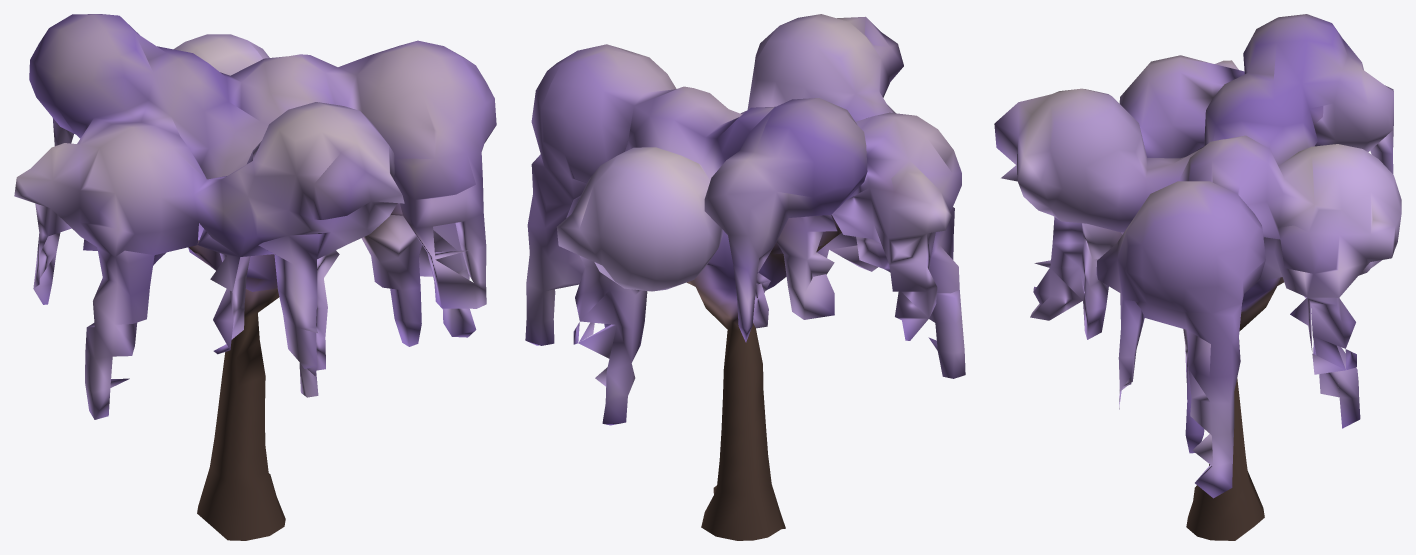
Rendered from weeping-tree-lod2.obj.
3 renders of one model, left to right at view 1: azimuth 30°, elevation 25°; view 2: azimuth 150°, elevation 25°; view 3: azimuth 270°, elevation 25°, orthographic. The views are drawn at different scales.
Visible parts, largest first — view 1: simplified; view 2: simplified; view 3: simplified.
Boxes of the visible parts, x1,y1,x2,y2 form: simplified: (14, 14, 496, 540); simplified: (525, 14, 965, 540); simplified: (994, 14, 1401, 540).
Bounding box in the file's own units: 365 × 394 × 317.
